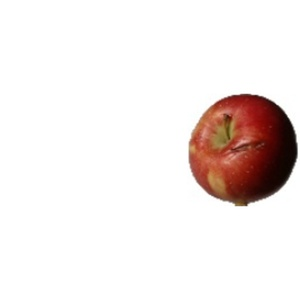maçã braeburn: (188, 92, 300, 203)
